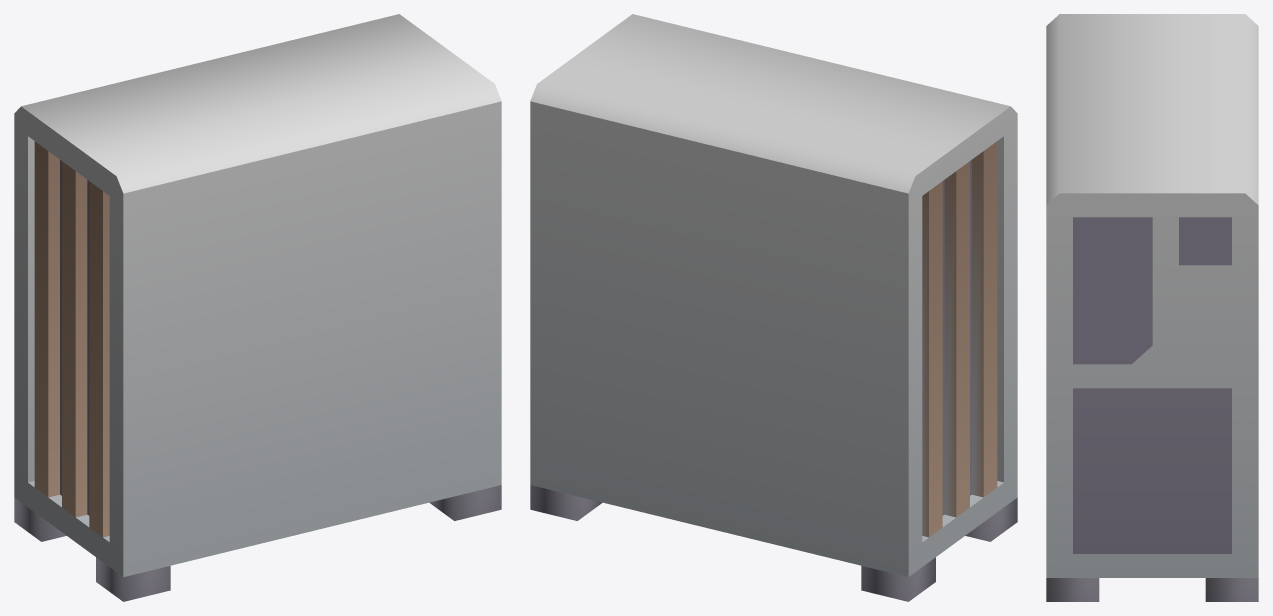
The model's file is pc-case-wood.glb.
3 renders of one model, left to right at view 1: azimuth 30°, elevation 25°; view 2: azimuth 150°, elevation 25°; view 3: azimuth 270°, elevation 25°, orthographic. The views are drawn at different scales.
Visible parts, largest first — view 1: pc-case-wood; view 2: pc-case-wood; view 3: pc-case-wood.
Part boxes in pixels (left/top/right/bottom): pc-case-wood: left=14, top=14, right=501, bottom=601; pc-case-wood: left=530, top=14, right=1017, bottom=601; pc-case-wood: left=1046, top=14, right=1258, bottom=601.
Size of the model in its own units: 0.4 by 0.425 by 0.2.
